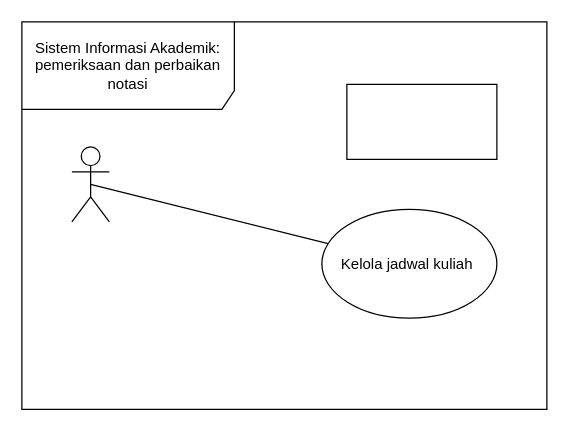
Image size: 569x431. Some labels were removed from this diagram. Each missing label, with the centre of its shape:
"lihat jadwal kuliah" belongs at point (421, 121).
"Mahasiswa" belongs at point (90, 184).
